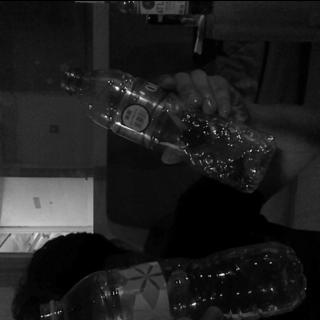plastic_bottles: (57, 64, 279, 193), (39, 239, 312, 320)
